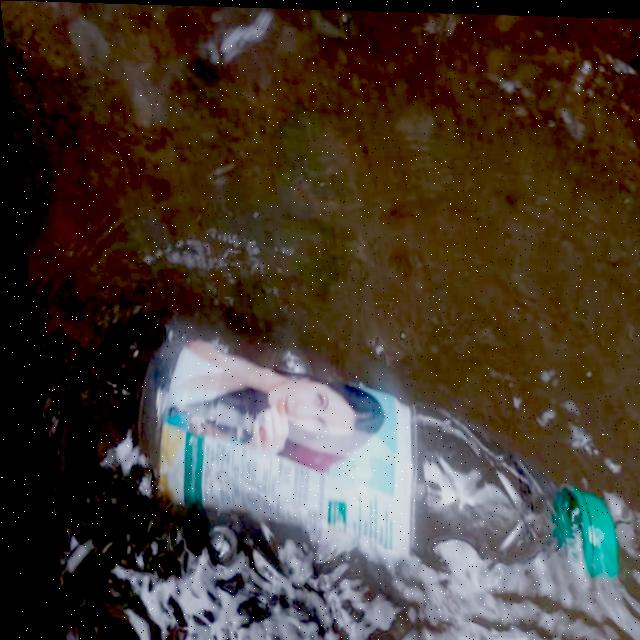waterbottle: (99, 319, 631, 567)
